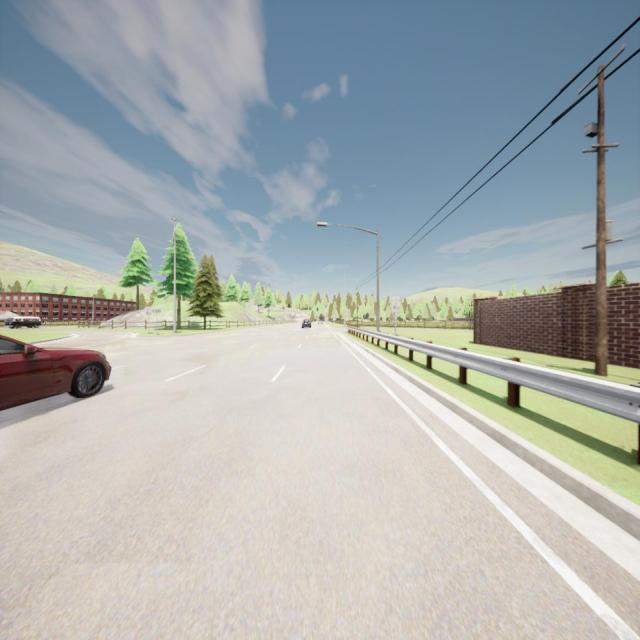Traffic_Signs: (391, 297, 400, 312)
Vehicle: (0, 334, 111, 409), (4, 313, 42, 327), (302, 318, 312, 330)
